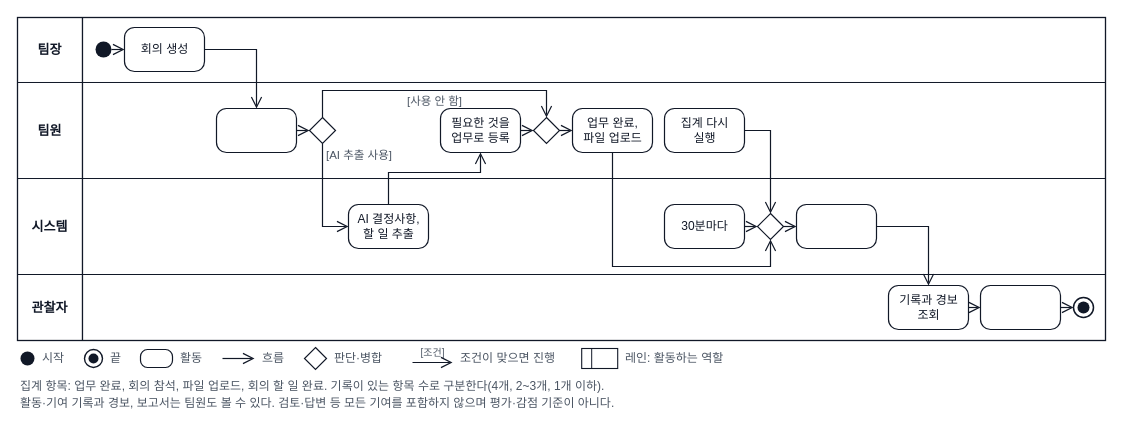
Image size: 1125x430. Some labels were removed from this diagram. Each missing label, with the centre of its shape:
"보고서 PDF·ZIP" belongs at [1020,307].
"체크인, 회의록 작성" belongs at [256,130].
"항목별 집계, 경보 갱신" belongs at [836,226].
